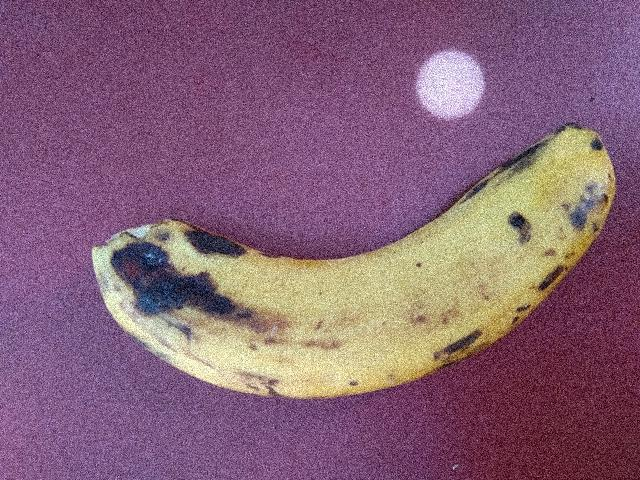overripe: (62, 117, 639, 415)
